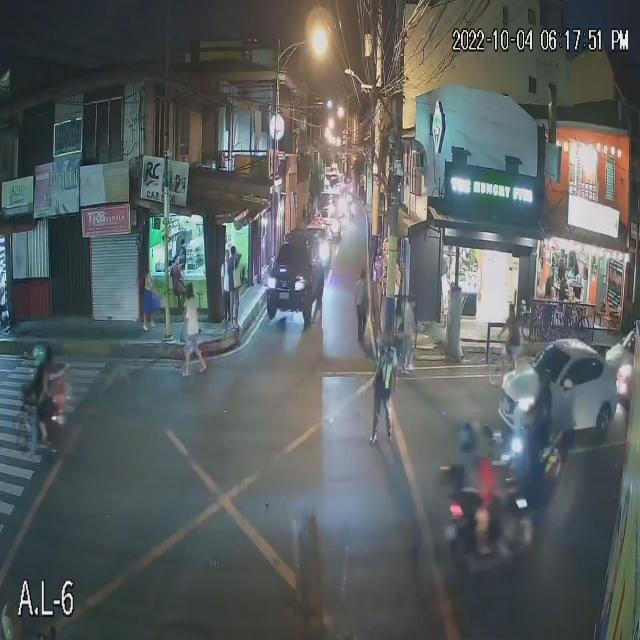helmet: (30, 343, 51, 366), (458, 428, 475, 450), (482, 431, 495, 455)
motorcycle: (449, 498, 538, 571), (21, 402, 67, 456)
rider: (31, 372, 53, 420), (458, 458, 475, 515), (481, 470, 498, 520)
